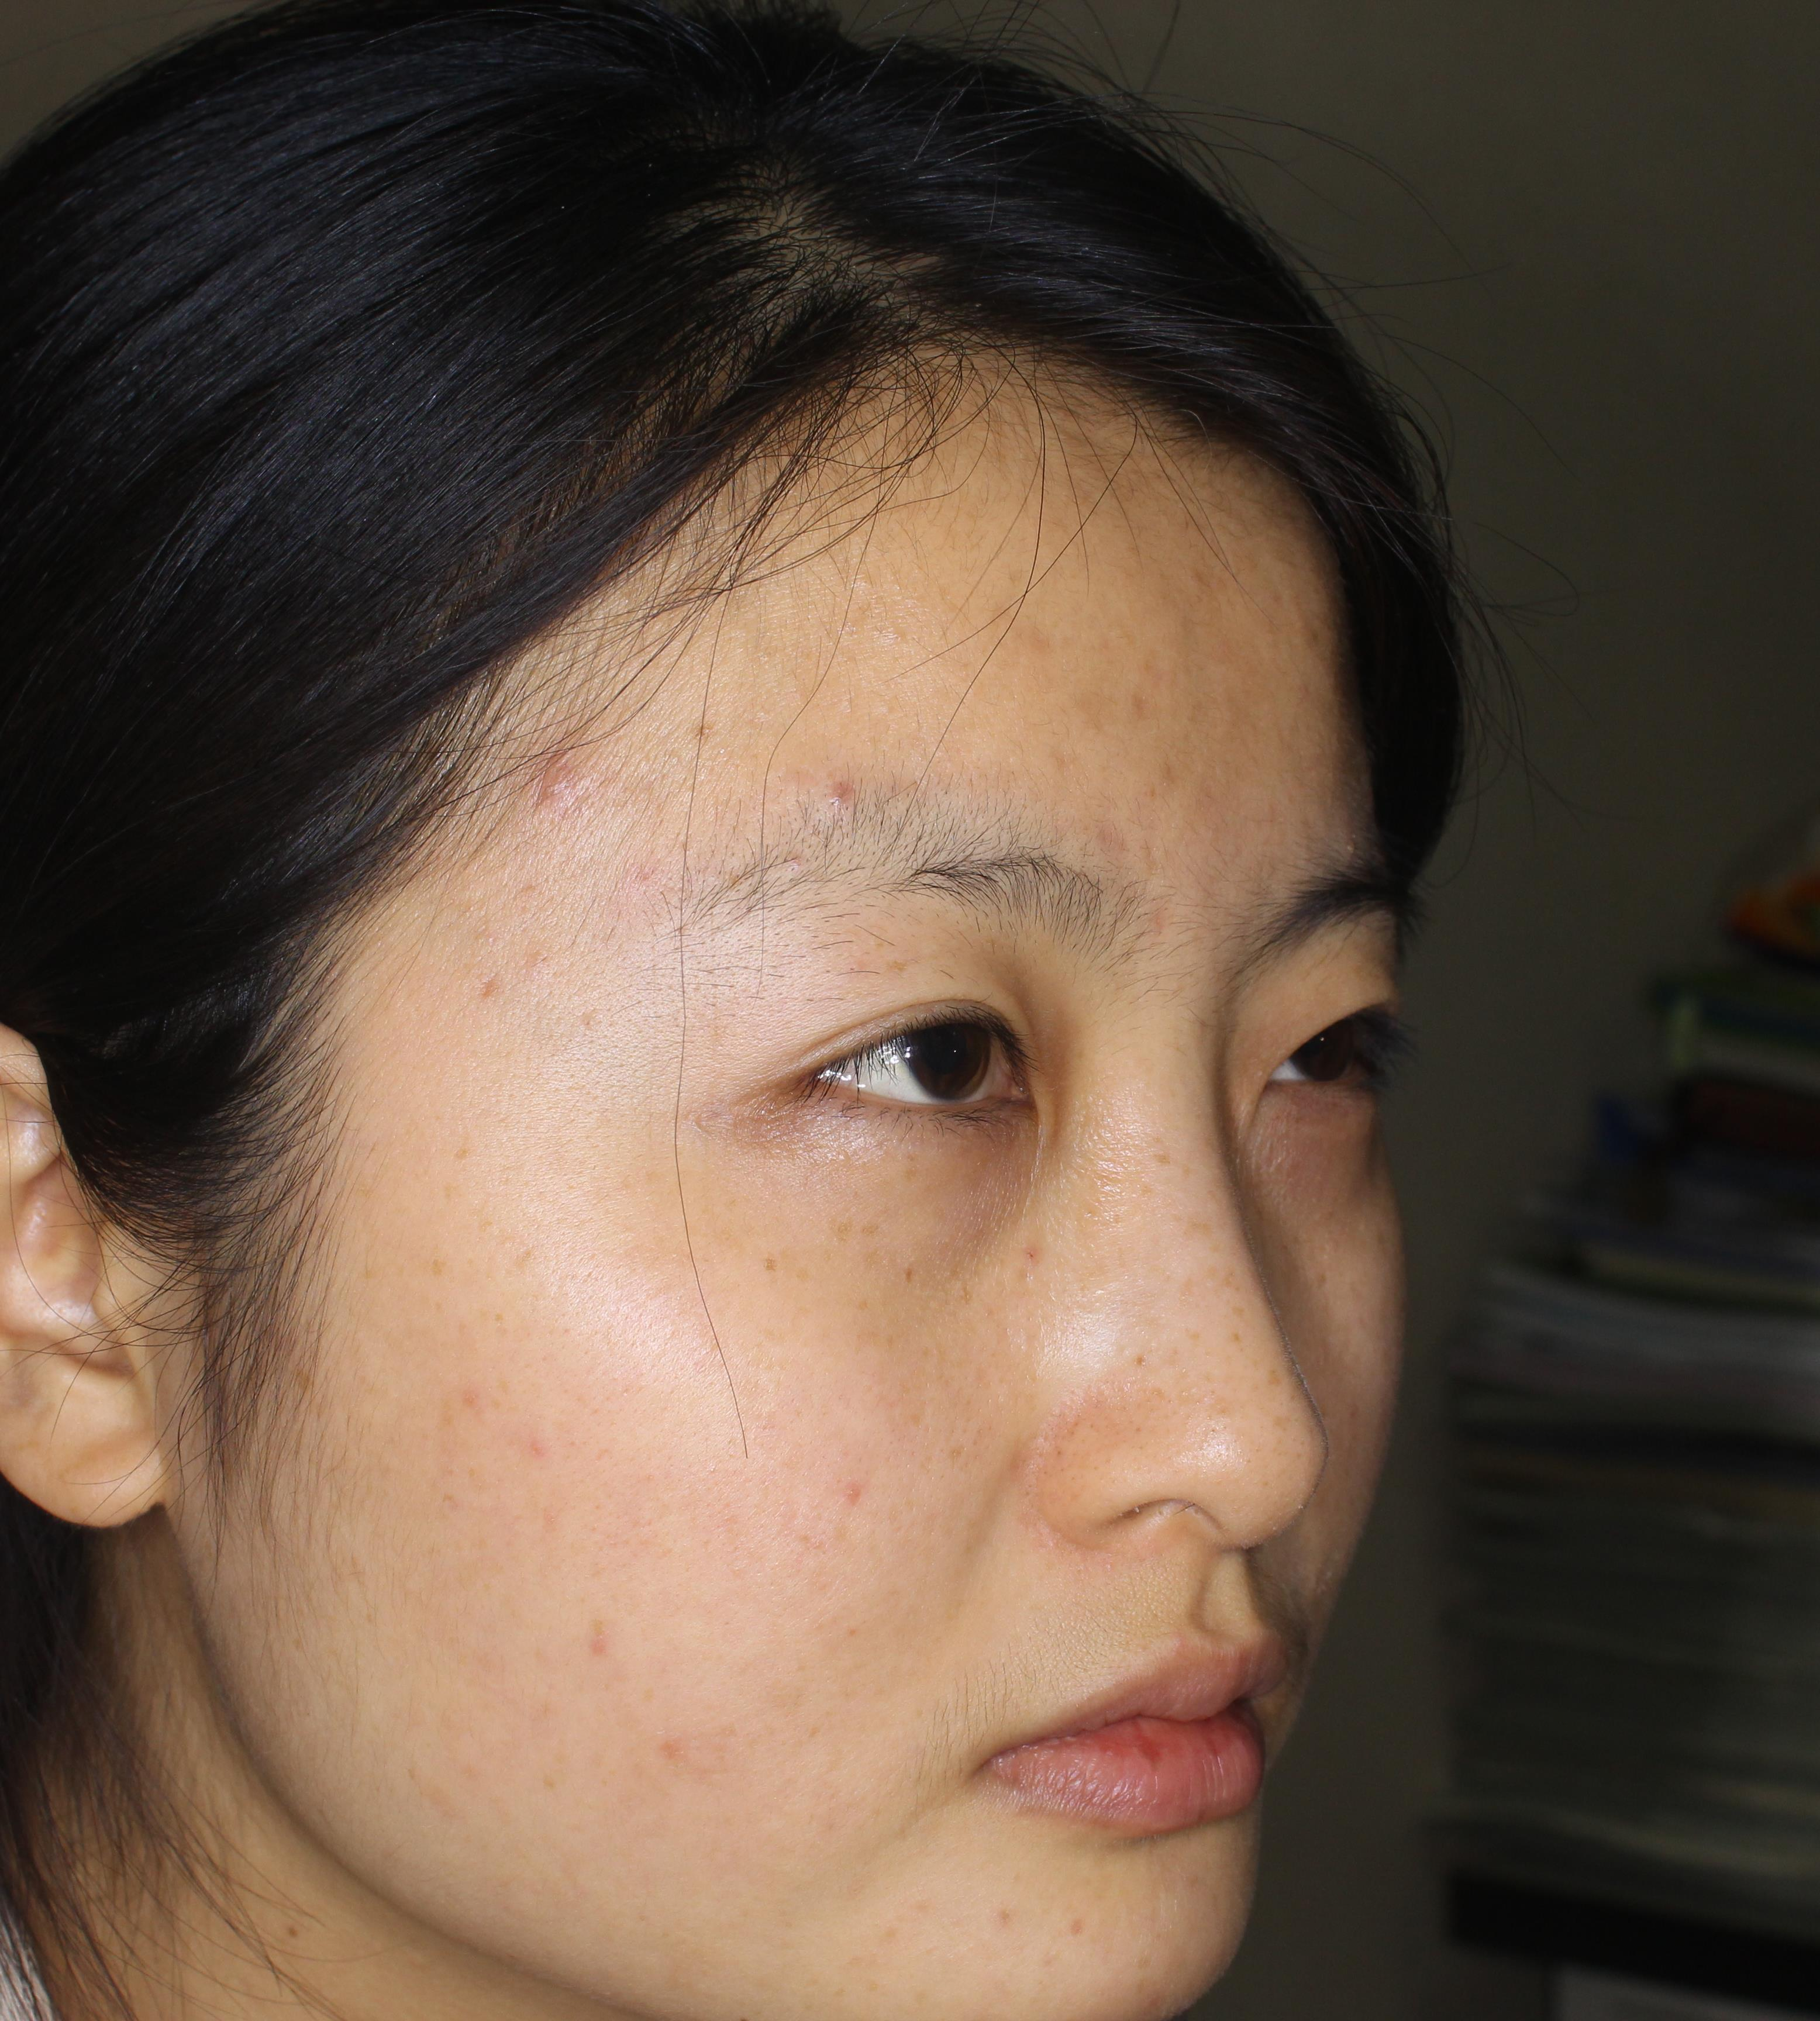fore: (485, 720, 624, 855)
